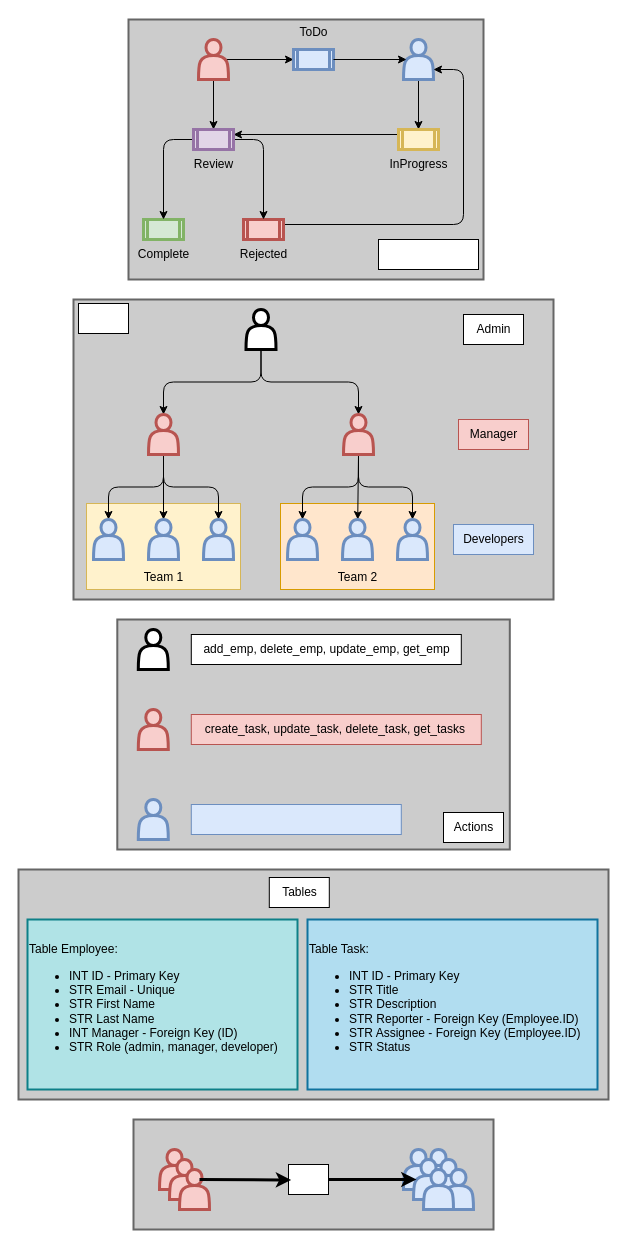
Some shapes in this 626 by 1247 pixel diagram are drawn without their labels. Each missing label, with the centre of its shape:
"API" goes at point 308,1179.
"Roles" goes at point 103,318.
"start_task, update_task, get_tasks" goes at point 295,819.
"Task Life Cycle" goes at point 428,254.
